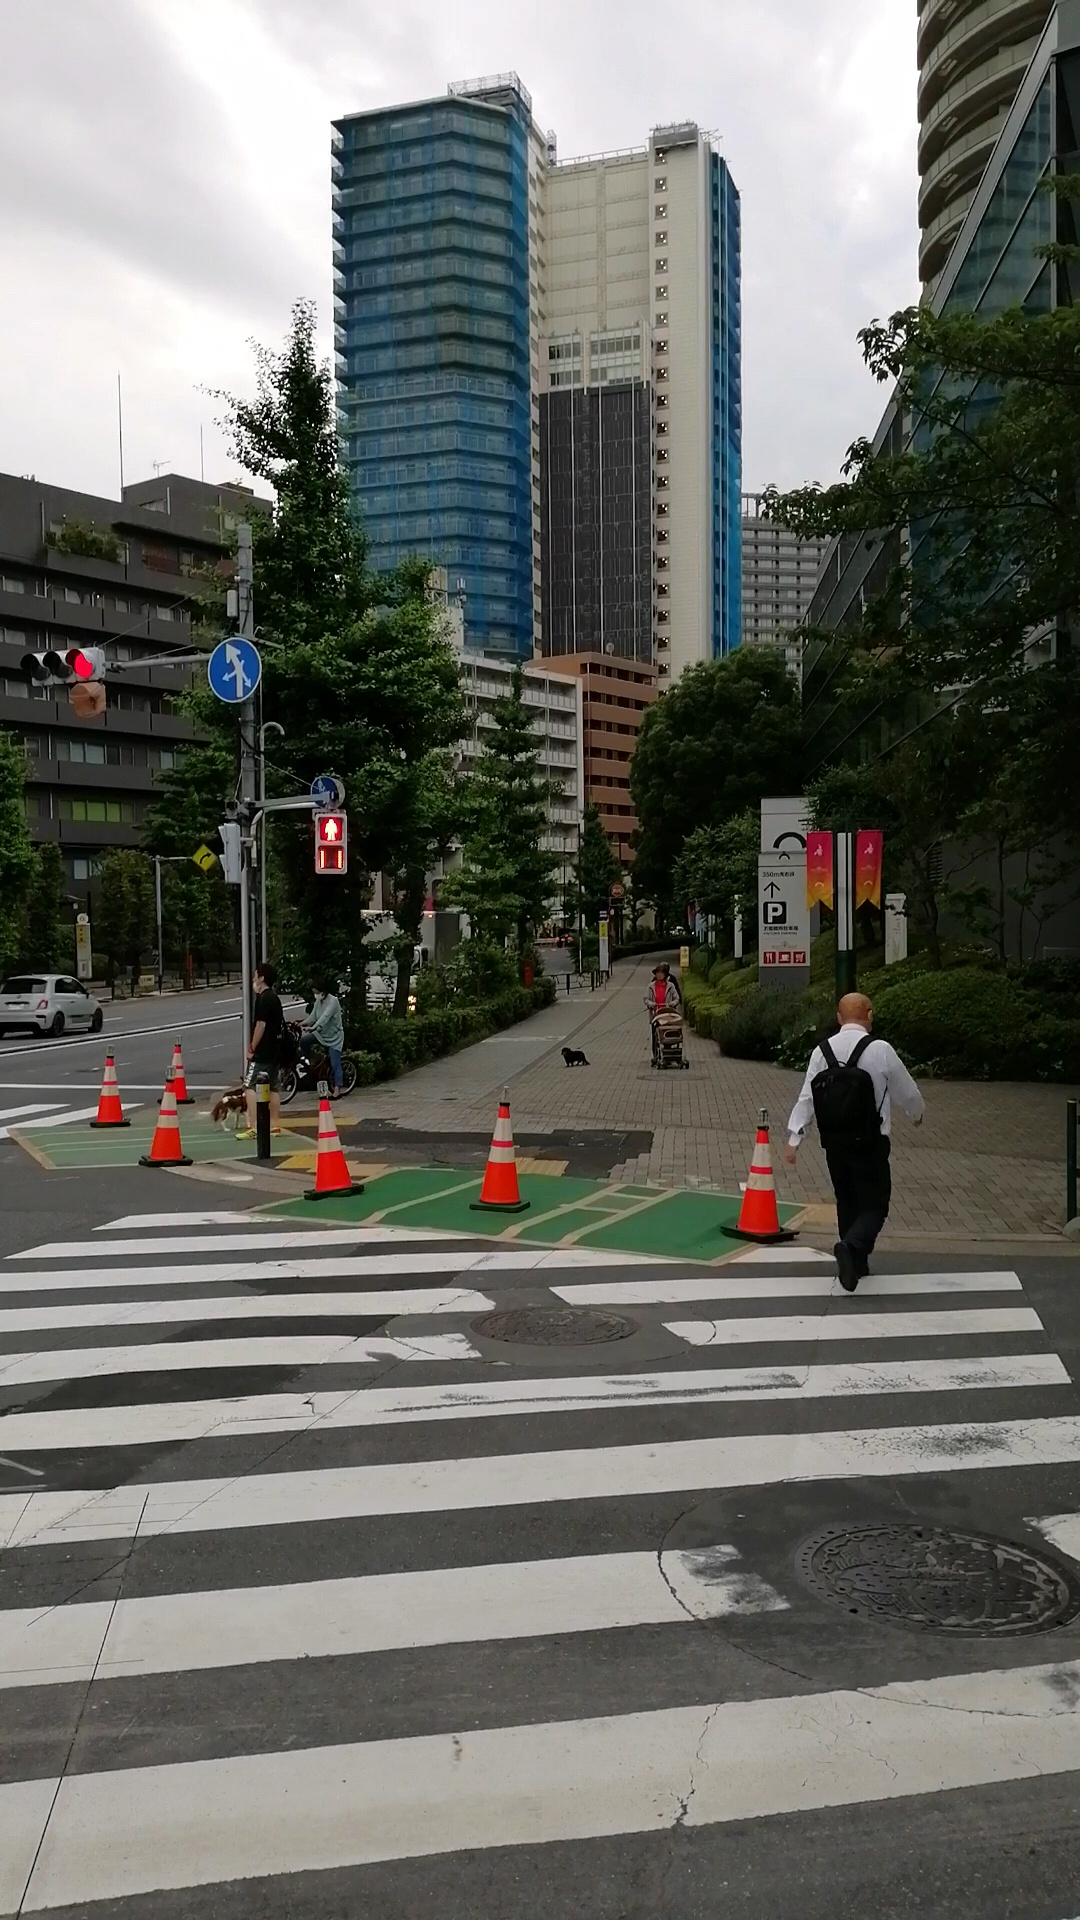red: (313, 814, 348, 873)
